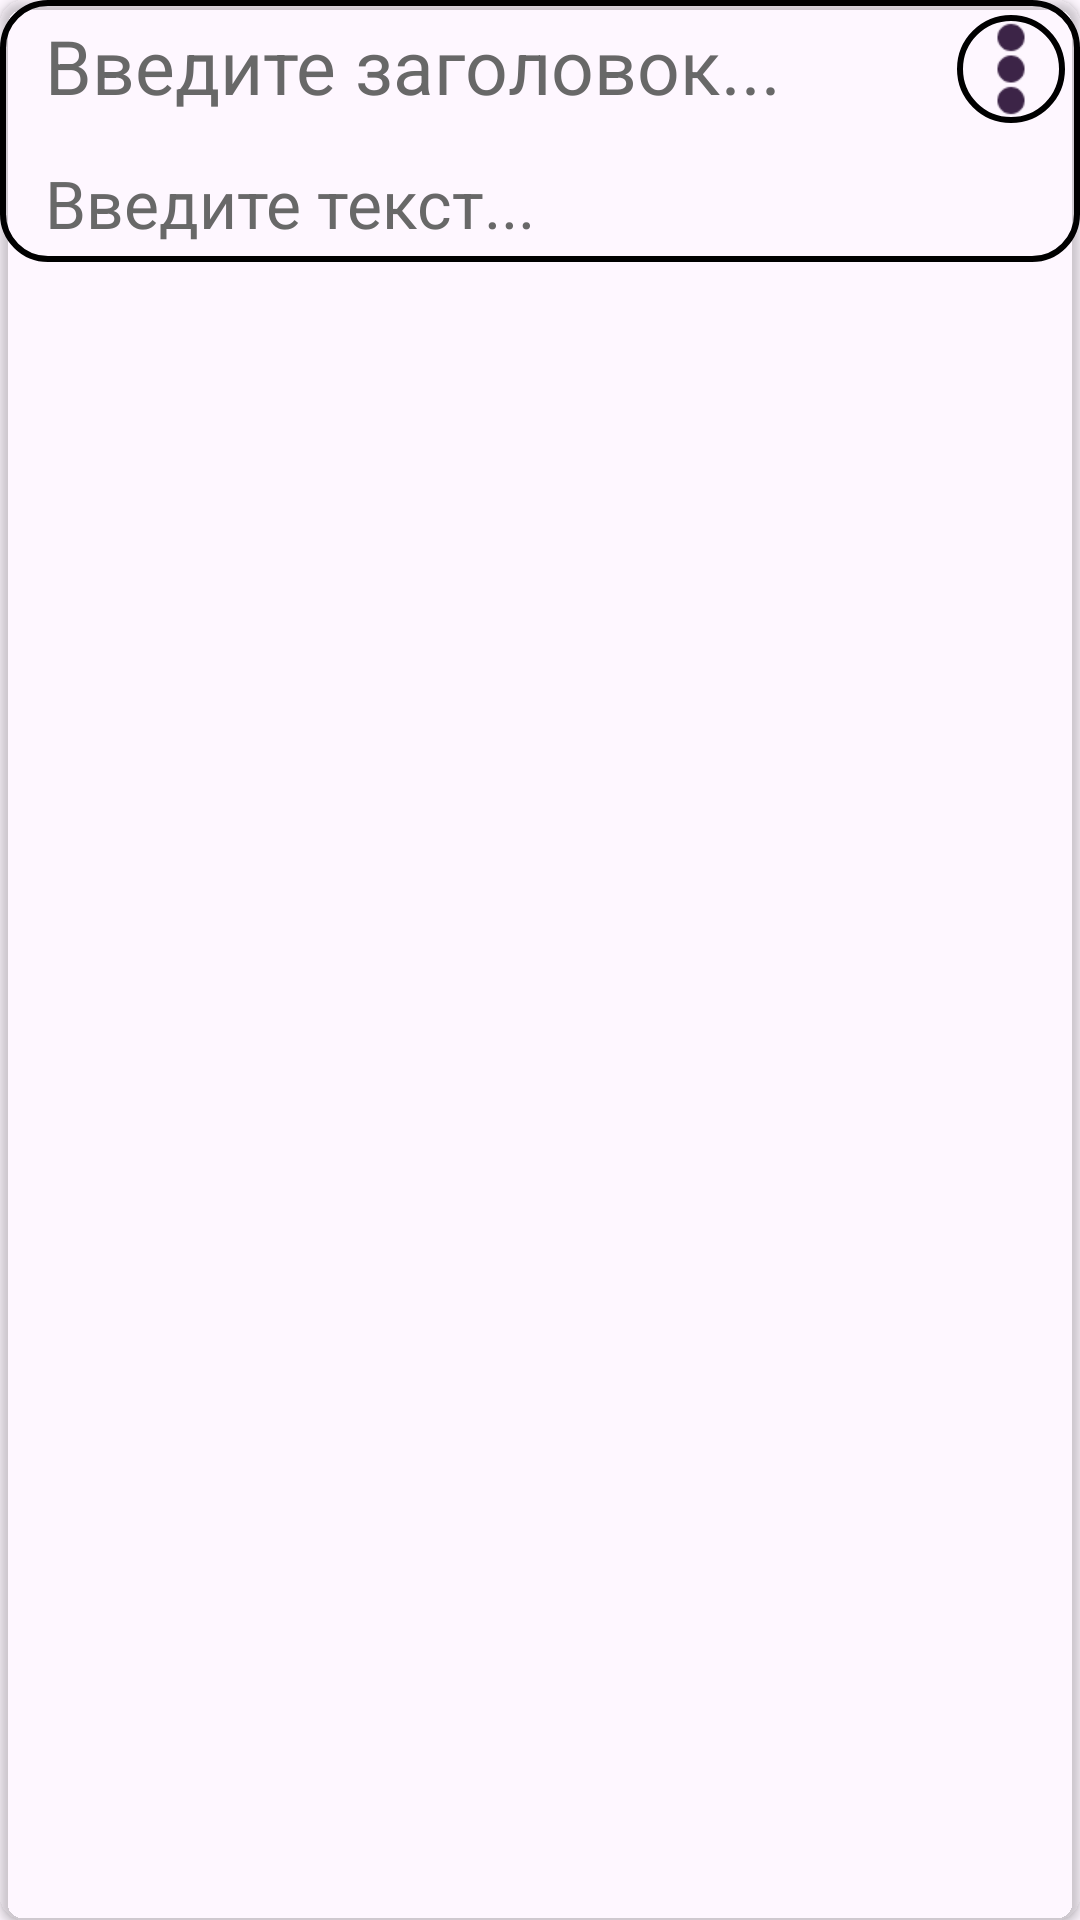

Point at icon controls on the screen. Image size 1080px x 1920px, points as (x,y).
menu: (1011,69)
